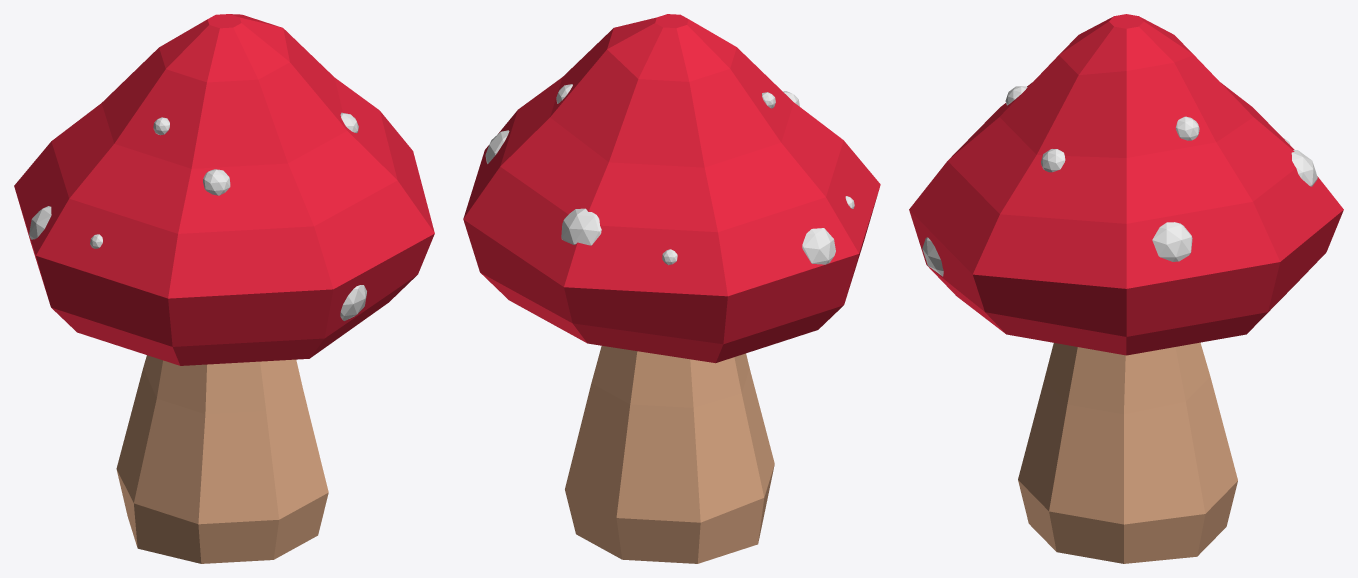
File: MushRoom.fbx
3 views of the same model, side by side, from view 1: azimuth 30°, elevation 25°; view 2: azimuth 150°, elevation 25°; view 3: azimuth 270°, elevation 25° (orthographic).
Visible parts, largest first — view 1: Circle, Icosphere.005, Icosphere.004; view 2: Circle, Icosphere, Icosphere.006; view 3: Circle, Icosphere.001, Icosphere.
Part boxes in pixels (x1,y1,x2,y2): Circle: (14,14,434,563); Icosphere.005: (340,285,366,320); Icosphere.004: (203,169,230,195); Circle: (463,14,880,563); Icosphere: (561,208,601,245); Icosphere.006: (802,228,835,264); Circle: (909,14,1343,563); Icosphere.001: (1152,222,1192,261); Icosphere: (1291,150,1317,186).
Bounding box in the file's own units: 113 × 145 × 113.
